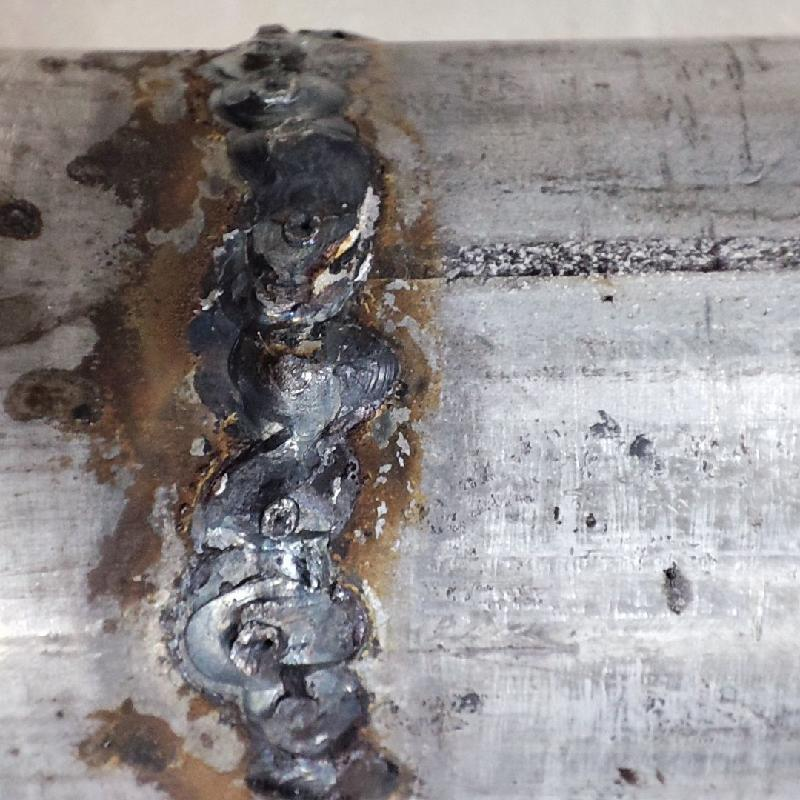Surface_pores: (234, 620, 300, 666), (261, 494, 298, 536), (288, 206, 323, 242)
wrong_size: (193, 16, 400, 799)
